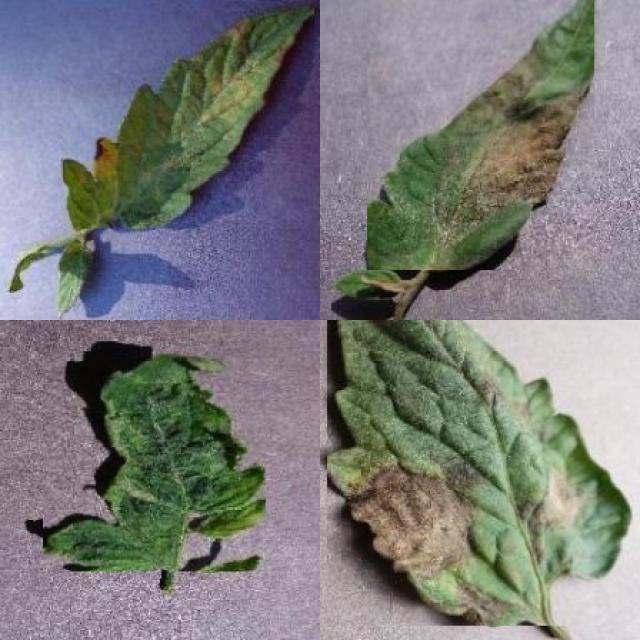Late Blight: (327, 320, 633, 626), (367, 0, 594, 270)
Leaf Mold: (63, 1, 314, 229)
Mosaic Virus: (44, 352, 266, 572)
